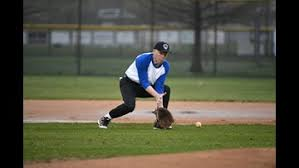baseball: (194, 120, 204, 130)
baseball player: (96, 40, 177, 131)
